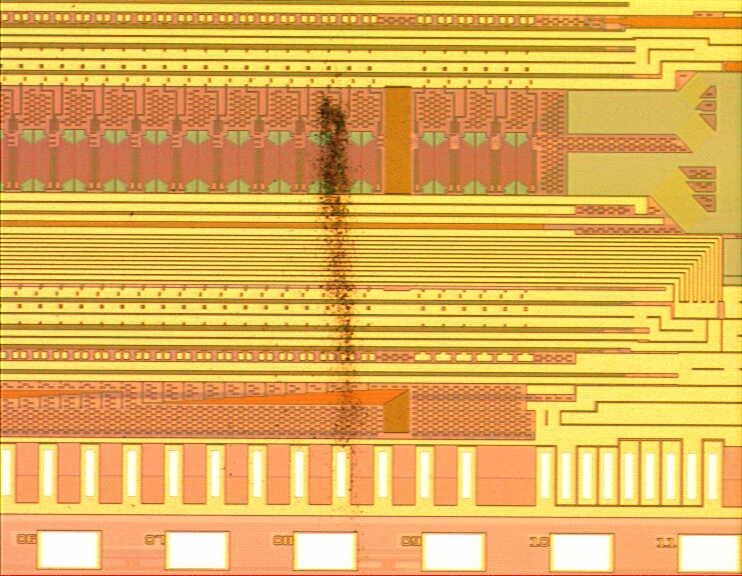PO CONTAMINATION: (313, 93, 364, 523)
